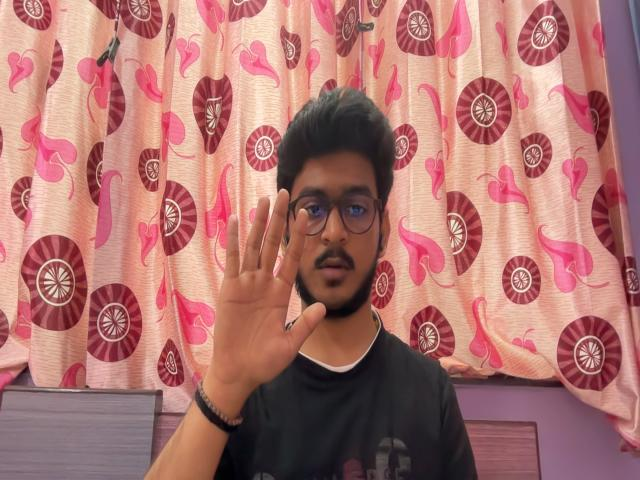Hello: (214, 182, 326, 394)
